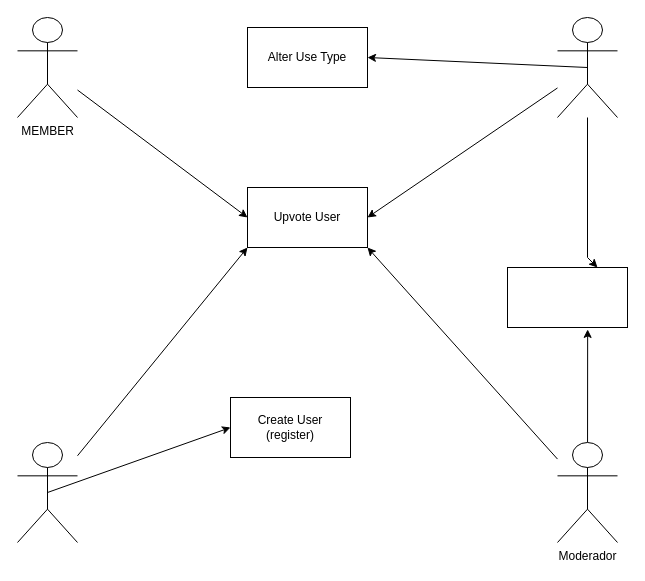
Image size: 645x581. Some labels were removed from this diagram. Each missing label, with the centre of its shape:
Admin: (x=587, y=67)
Block User: (x=567, y=297)
VISITOR: (x=47, y=492)
